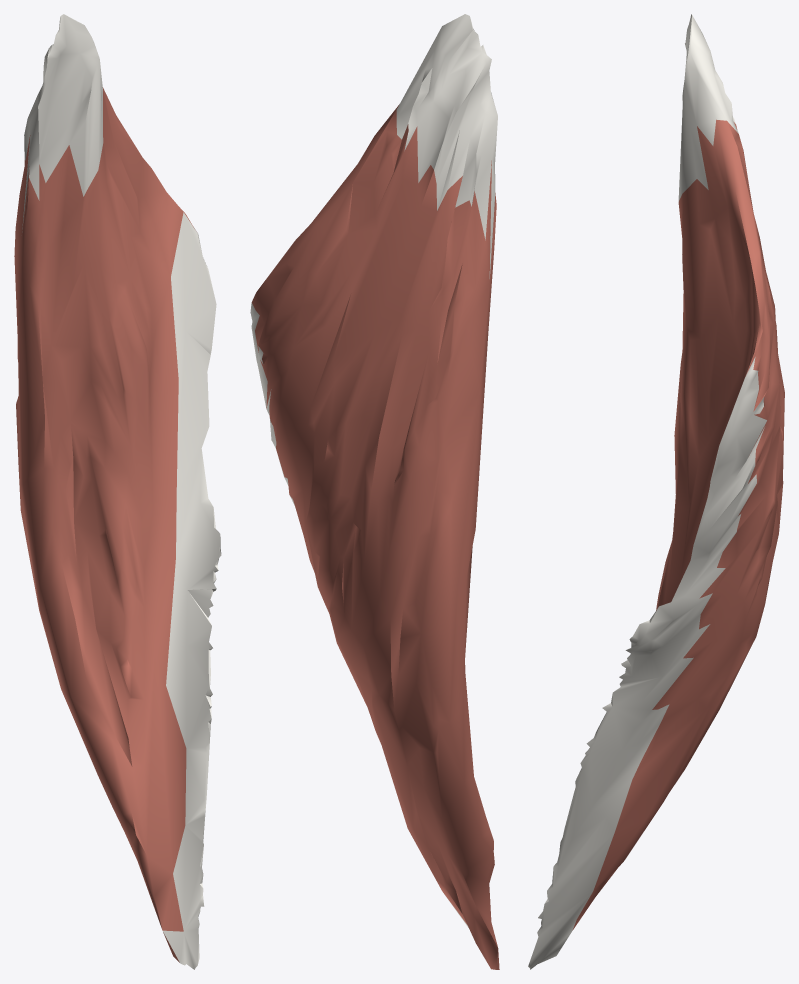
File: ancone.glb
3 renders of one model, left to right at view 1: azimuth 30°, elevation 25°; view 2: azimuth 150°, elevation 25°; view 3: azimuth 270°, elevation 25°, orthographic. The views are drawn at different scales.
Parts seen in each view (by area): view 1: ancone; view 2: ancone; view 3: ancone.
Boxes of the visible parts, x1,y1,x2,y2 form: ancone: (14, 14, 221, 969); ancone: (250, 14, 499, 969); ancone: (528, 14, 784, 969).
Bounding box in the file's own units: 0.0238 × 0.1046 × 0.0262.
